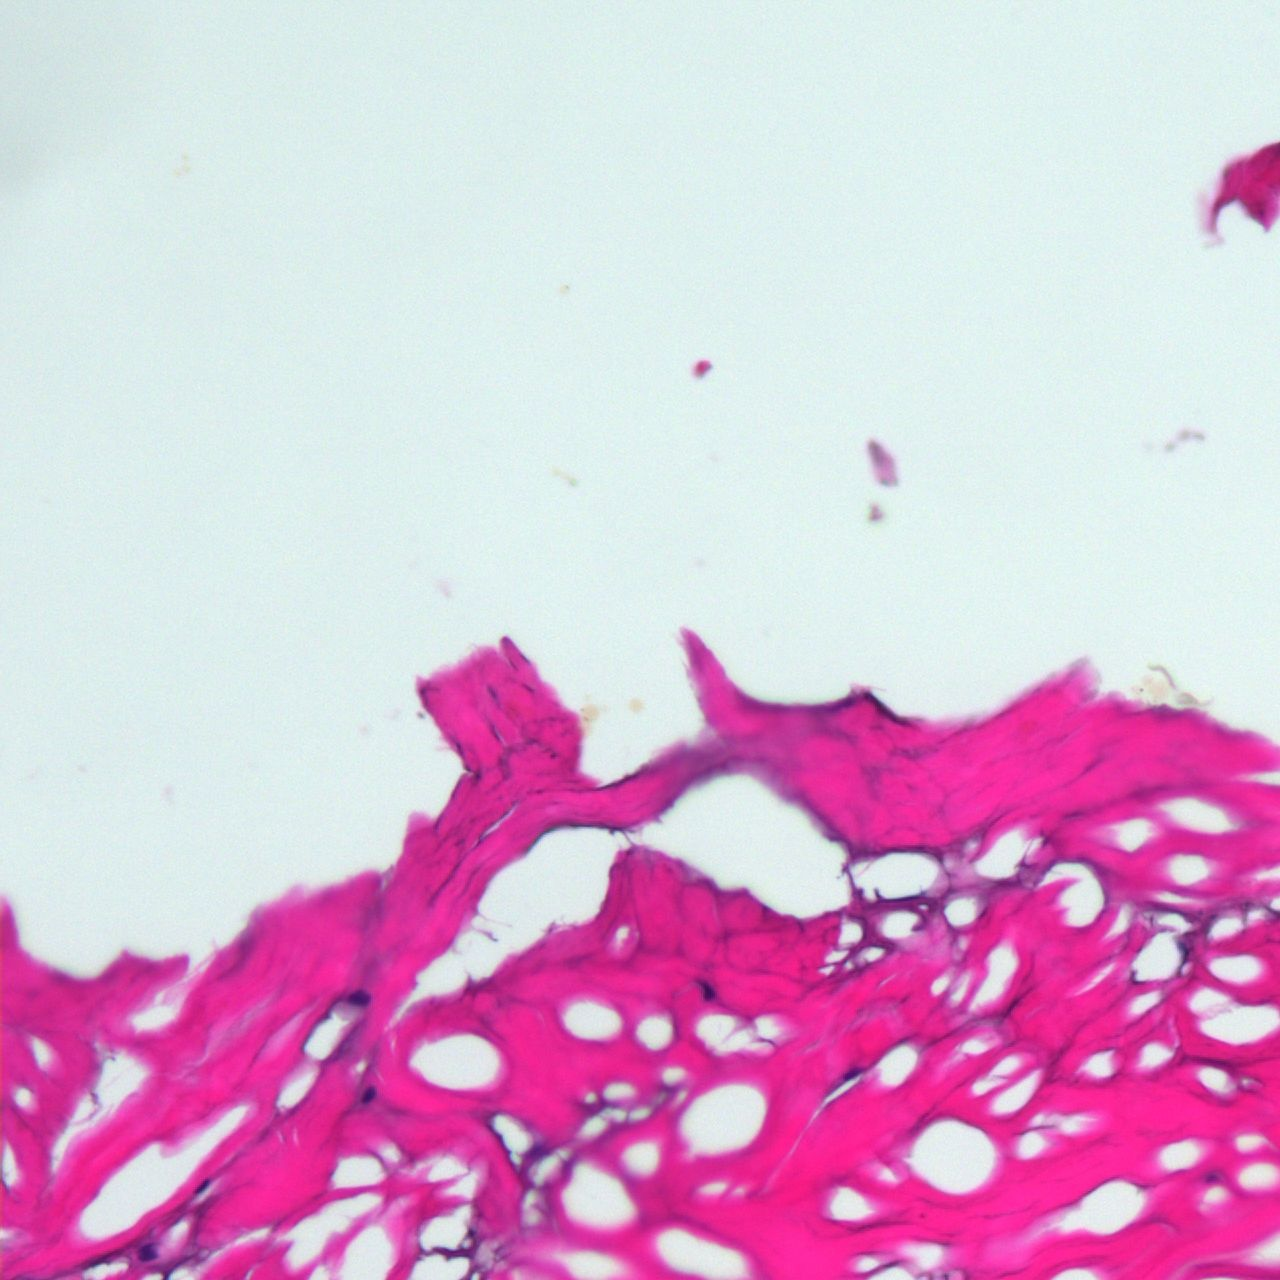dust: (1144, 674, 1165, 700), (583, 704, 596, 732), (172, 165, 187, 177), (629, 697, 640, 713), (560, 284, 569, 293)
nucleus-HE: (359, 1084, 379, 1105), (698, 980, 716, 1002), (349, 989, 370, 1005), (139, 1243, 158, 1260), (194, 1178, 210, 1194)
